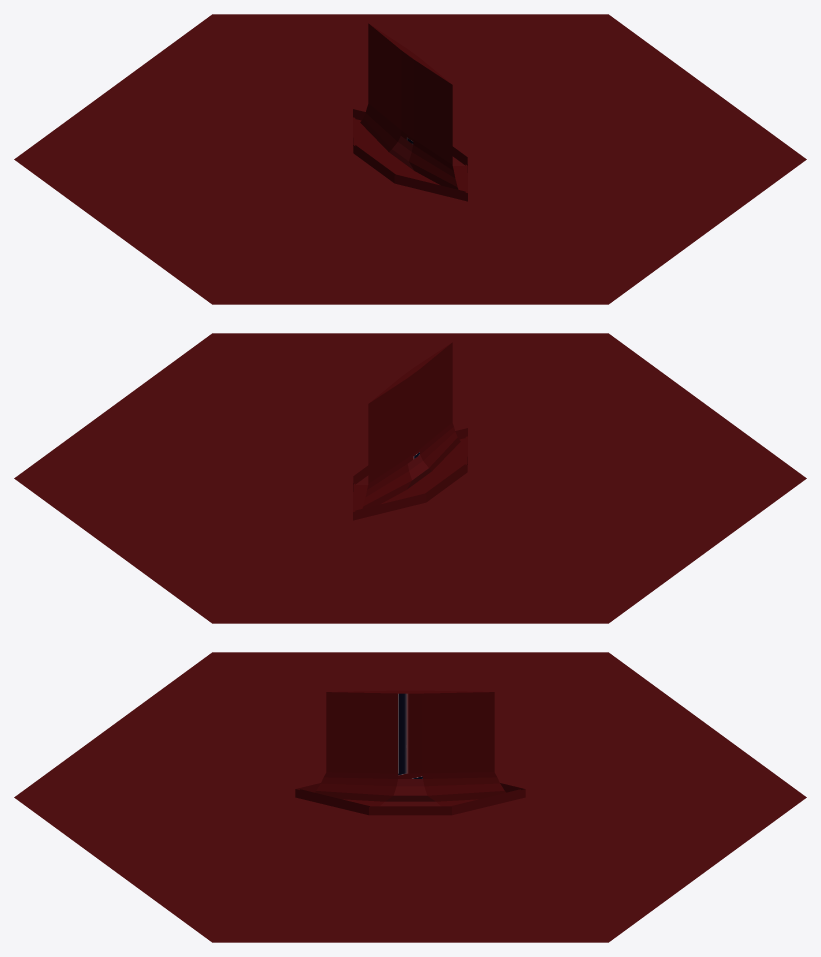
Rendered from stage.obj.
3 renders of one model, top to bottom at view 1: azimuth 30°, elevation 25°; view 2: azimuth 150°, elevation 25°; view 3: azimuth 270°, elevation 25°, orthographic.
Parts seen in each view (by area): view 1: 円.001; view 2: 円.001; view 3: 円.001.
Boxes of the visible parts, left/top/right/bottom form: 円.001: left=14, top=14, right=806, bottom=304; 円.001: left=14, top=333, right=806, bottom=623; 円.001: left=14, top=652, right=806, bottom=942.
Size of the model in its own units: 520 by 88.03 by 600.
